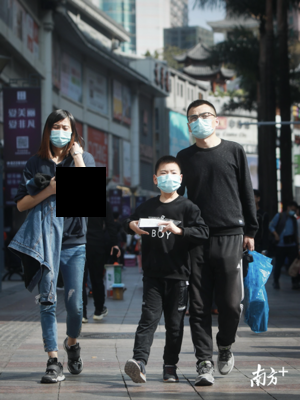with_mask: (188, 112, 217, 140), (157, 169, 182, 194), (49, 124, 72, 149)
